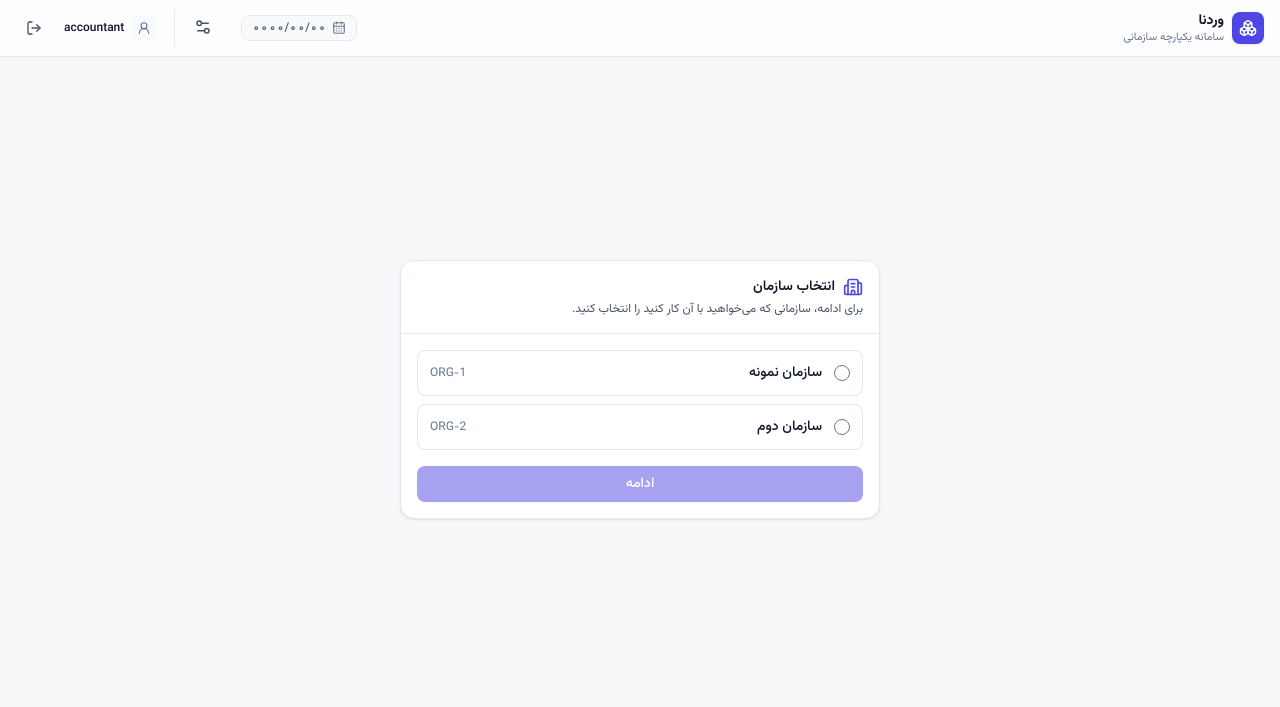
organization resolution in the shell › requires an explicit organization selection before the workspace loads
Expected: the heading "میزکار" is not shown
Expected: the radio button labelled "سازمان نمونه ORG-1" is not checked, [834,364,850,380]
Click the radio button labelled "سازمان دوم ORG-2": (842, 426) [834,418,850,434]
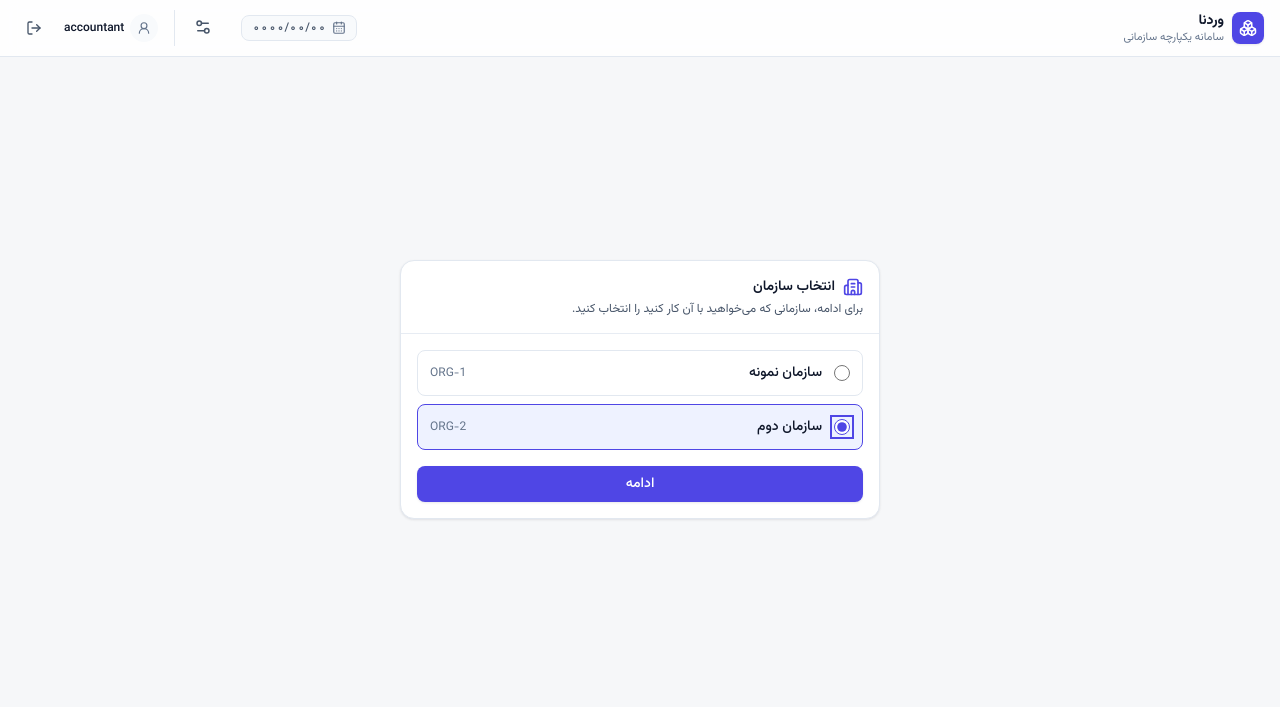
Expected: the radio button labelled "سازمان نمونه ORG-1" is not checked, [834,364,850,380]
Expected: the radio button labelled "سازمان دوم ORG-2" is checked, [834,418,850,434]
Expected: the button "ادامه" is enabled
Click the button "ادامه": (640, 484) [417,466,863,502]
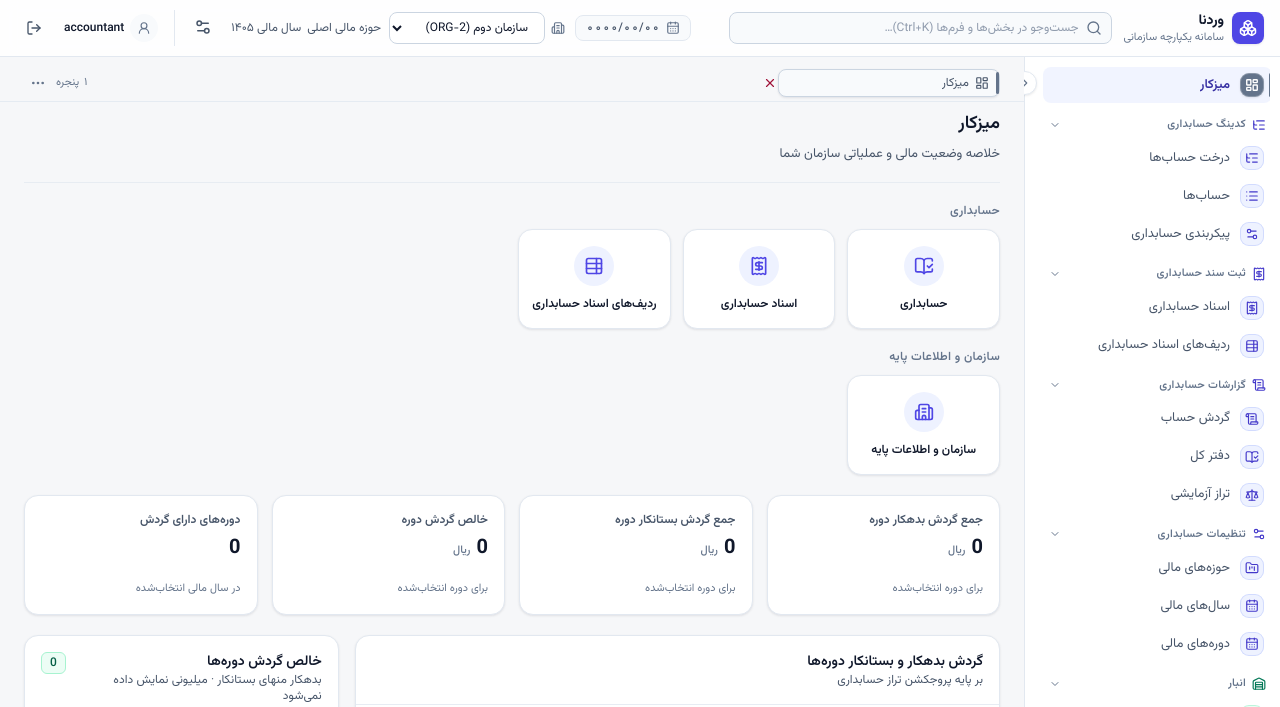
Expected: the heading "میزکار" is shown, [958,110,1000,138]
Expected: the dropdown named "انتخاب سازمان" shows "سازمان دوم (ORG-2)", [389,12,545,44]
